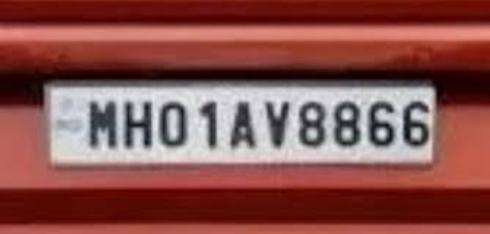0: (159, 99, 190, 152)
1: (198, 99, 222, 155)
6: (399, 96, 432, 149), (366, 97, 398, 149)
8: (296, 95, 330, 151), (332, 97, 362, 152)
A: (228, 98, 256, 153)
H: (122, 96, 156, 149)
V: (262, 97, 291, 152)
m: (84, 97, 120, 152)
